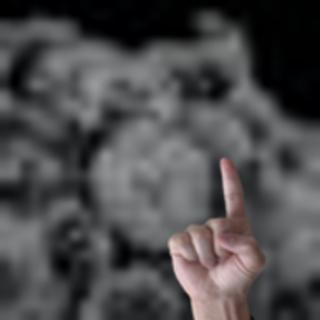IRRITATED: (158, 153, 270, 299)
